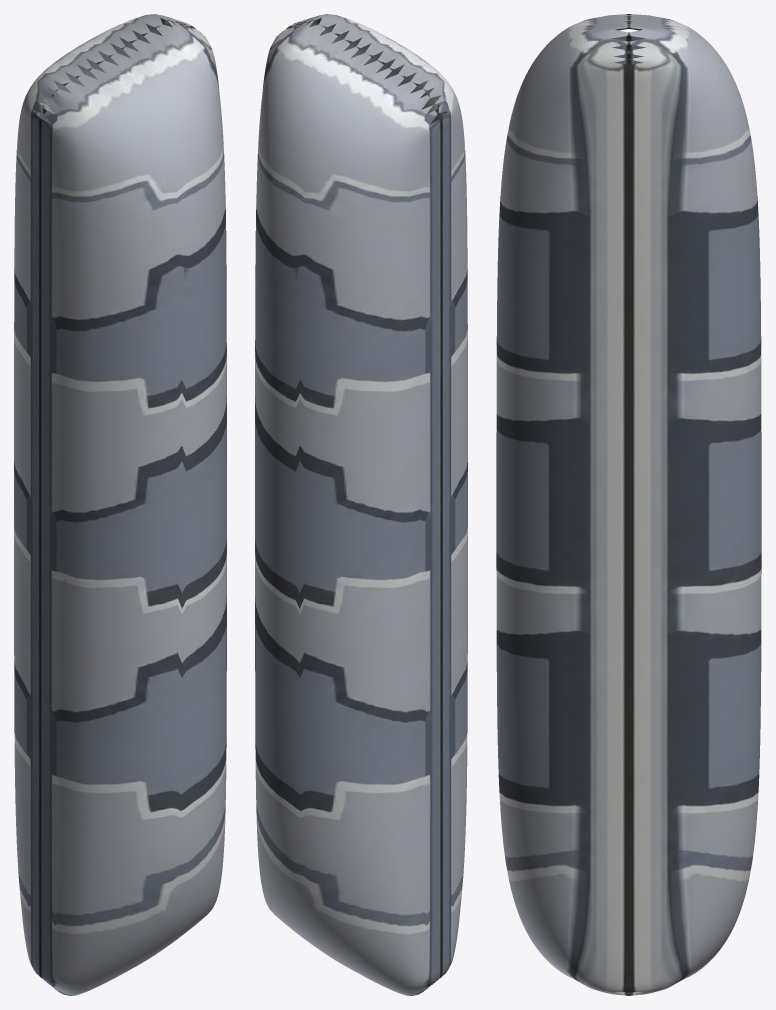
The model's file is ribbed_side_wall.glb.
The picture shows the model from 3 angles, left to right: view 1: azimuth 30°, elevation 25°; view 2: azimuth 150°, elevation 25°; view 3: azimuth 270°, elevation 25°; orthographic projection. The views are drawn at different scales.
Parts seen in each view (by area): view 1: ribbed_side_wall; view 2: ribbed_side_wall; view 3: ribbed_side_wall.
Part boxes in pixels (box(x1,y1,x2,y2)): ribbed_side_wall: box(14, 14, 226, 995); ribbed_side_wall: box(255, 14, 467, 995); ribbed_side_wall: box(496, 14, 761, 995).
Bounding box in the file's own units: 0.9411 × 5.3 × 1.25.
Materials: 1 (1 with a texture image).
